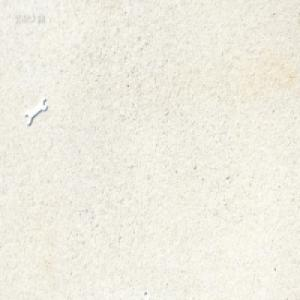Wrench: (25, 93, 48, 125)
